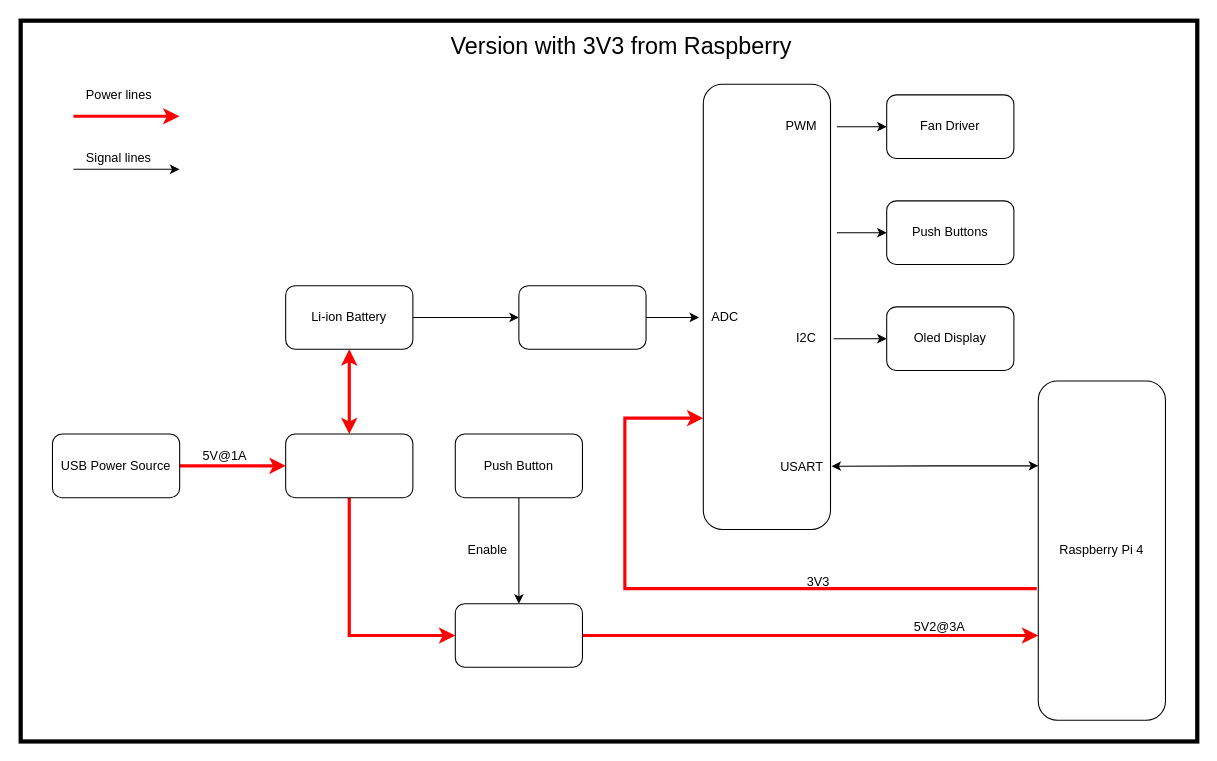
This 1217x761 diagram has some shape labels left out. The box of each missing label's shape, as (x1, y1, x2, y2) in pixels:
5V2 Boost Regulator: (454, 603, 582, 667)
Battery Charger: (285, 433, 413, 498)
Battery Voltage Monitor: (518, 285, 646, 349)
MCU: (702, 83, 831, 529)
